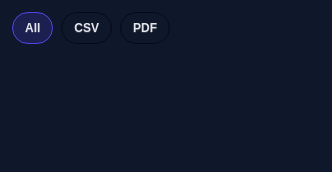
Test: clicking a chip presses it and releases the one before
The image size is (332, 172).
Expected: the element named "File type" is shown, [12,12,170,44]
Click the button "CSV".
click(87, 28)  # box [61,12,112,44]
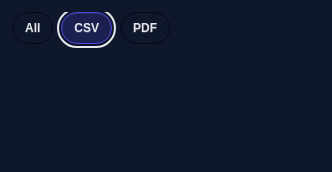
Expected: the button "CSV" is pressed, [61,12,112,44]
Expected: the button "All" is not pressed, [12,12,53,44]
